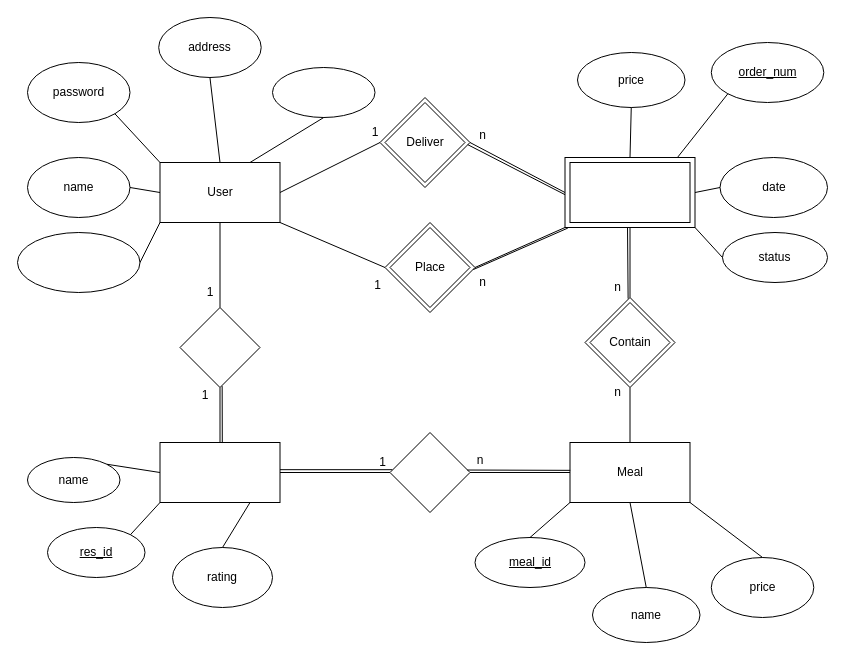
This 845x660 diagram has some shape labels left out. The shapes that lost their labels are listed below. From the top down, each one's centre as x and y in pixels, then its label:
point 323,92: usrename
point 629,192: Order
point 78,262: kind
point 219,347: Own
point 219,472: Restaurant
point 429,472: Has
